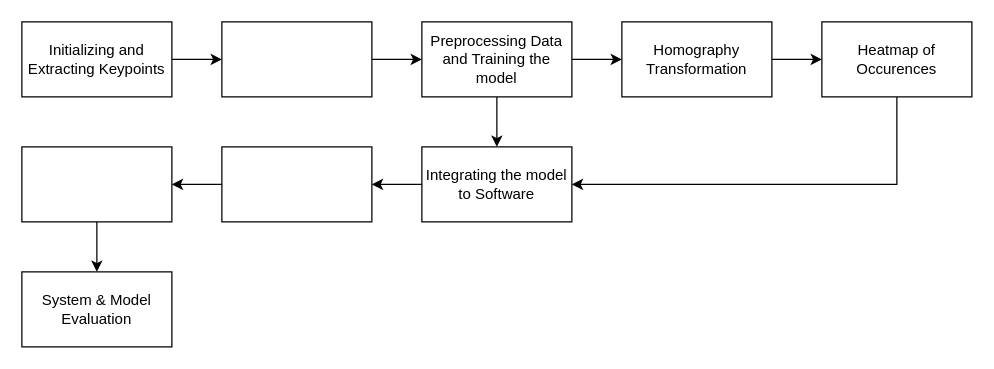
The diagram is 994 pixels wide and 369 high, and some of its shapes have lost their labels. The shapes that lost their labels are listed below. From the top down, each one's centre as x and y in pixels, then its label:
(296,59): Creating Dataset based on the pose estimation model
(96,184): Add User Friendly Features
(296,184): Check for the performance
